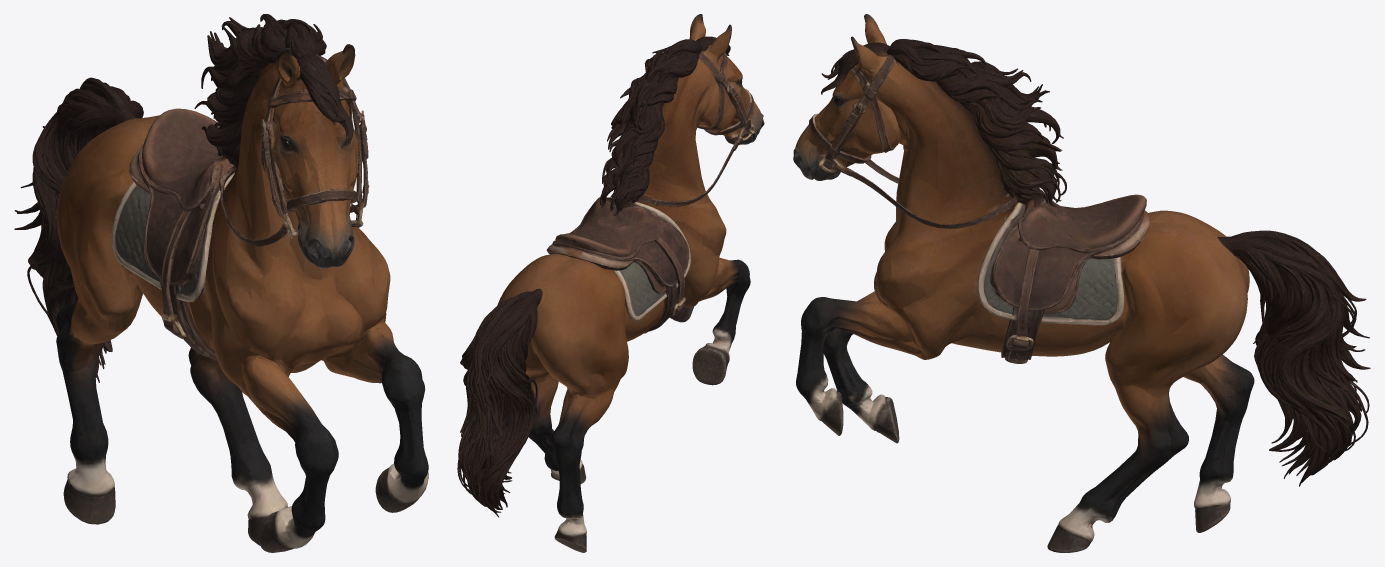
Rendered from brown-horse.glb.
3 renders of one model, left to right at view 1: azimuth 30°, elevation 25°; view 2: azimuth 150°, elevation 25°; view 3: azimuth 270°, elevation 25°, orthographic. The views are drawn at different scales.
Size of the model in its own units: 0.5274 by 1.85 by 1.9.
1 material, 1 textured.
